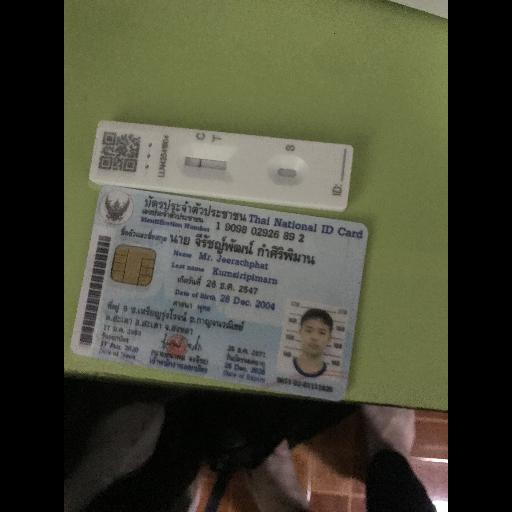Neg: (90, 120, 353, 214)
